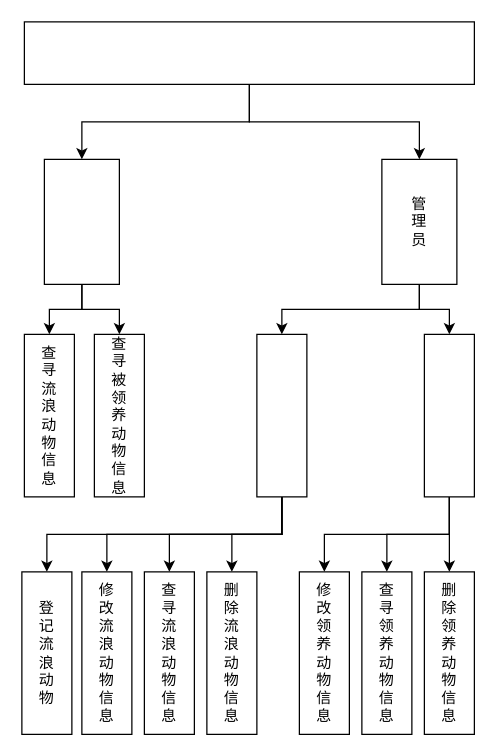
This 496x756 diagram has some shape labels left out. Here are the shapes that lost their labels. From the top down, the centre of each, then its label:
At point 248,52: "流浪动物之家系统".
At point 81,221: "普 通 用 户".
At point 281,415: "流 浪 动 物 管 理".
At point 448,415: "已 领 养 动 物 管 理".
